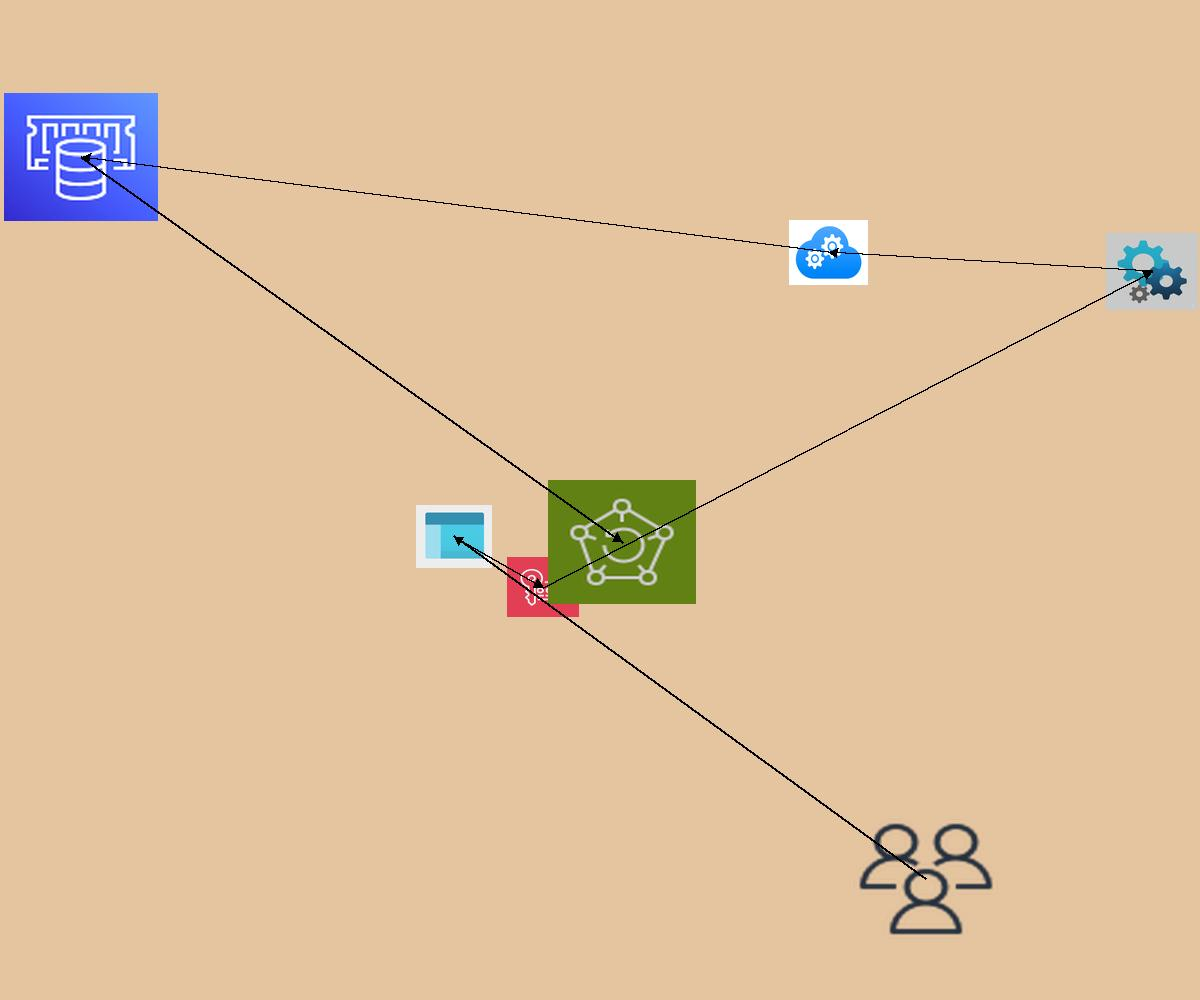AWS-Backup: (548, 480, 696, 604)
AWS-ElastiCache: (4, 93, 158, 221)
AWS-Key-Management-Service: (507, 557, 579, 617)
AWS-Res_Users: (854, 819, 998, 939)
Azure_api: (1106, 233, 1198, 310)
Azure_cloud_services: (789, 220, 868, 285)
Azure_management-portal: (416, 505, 492, 568)
